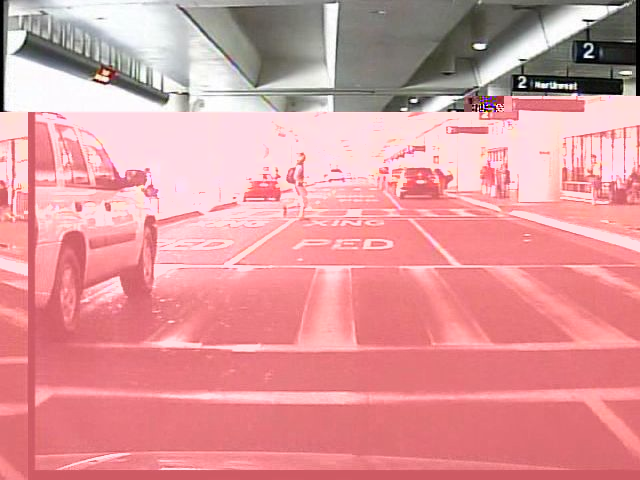person: (246, 149, 285, 223), (446, 159, 466, 199), (558, 157, 572, 204), (110, 165, 128, 197), (468, 165, 481, 200)
